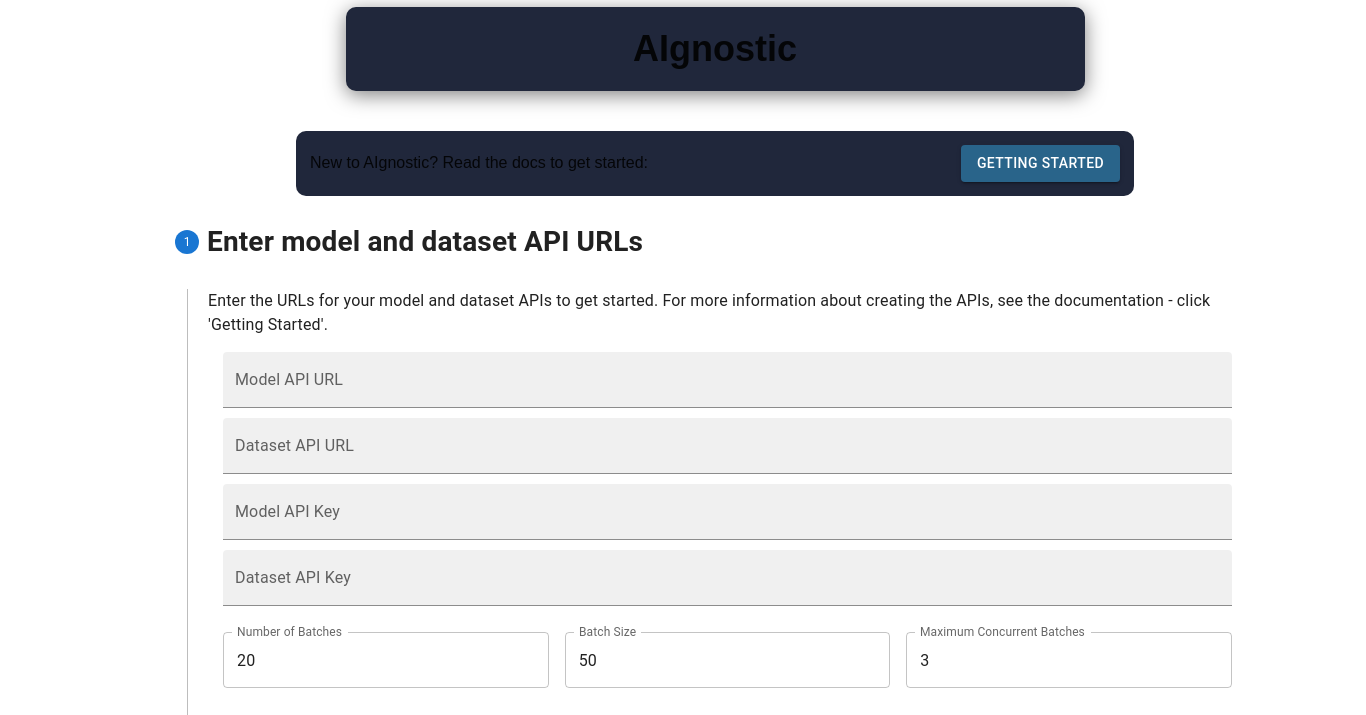
Test: UI Components › should enable "Next" button when valid URLs are entered
Type "http://valid-model-url.com" into the field labelled "Model API URL" at (728, 380), box [223,352,1232,408]
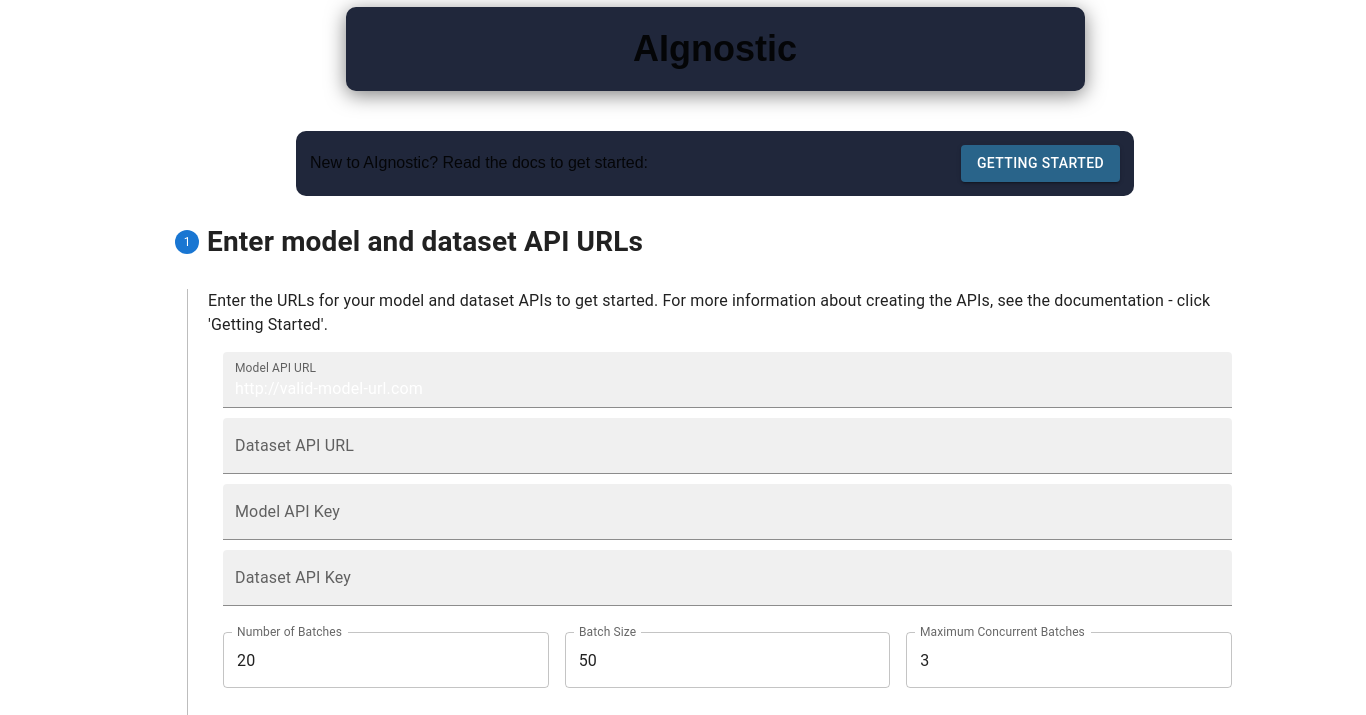
Type "http://valid-dataset-url.com" into the field labelled "Dataset API URL" at (728, 446), box [223,418,1232,474]
(page scrolled)
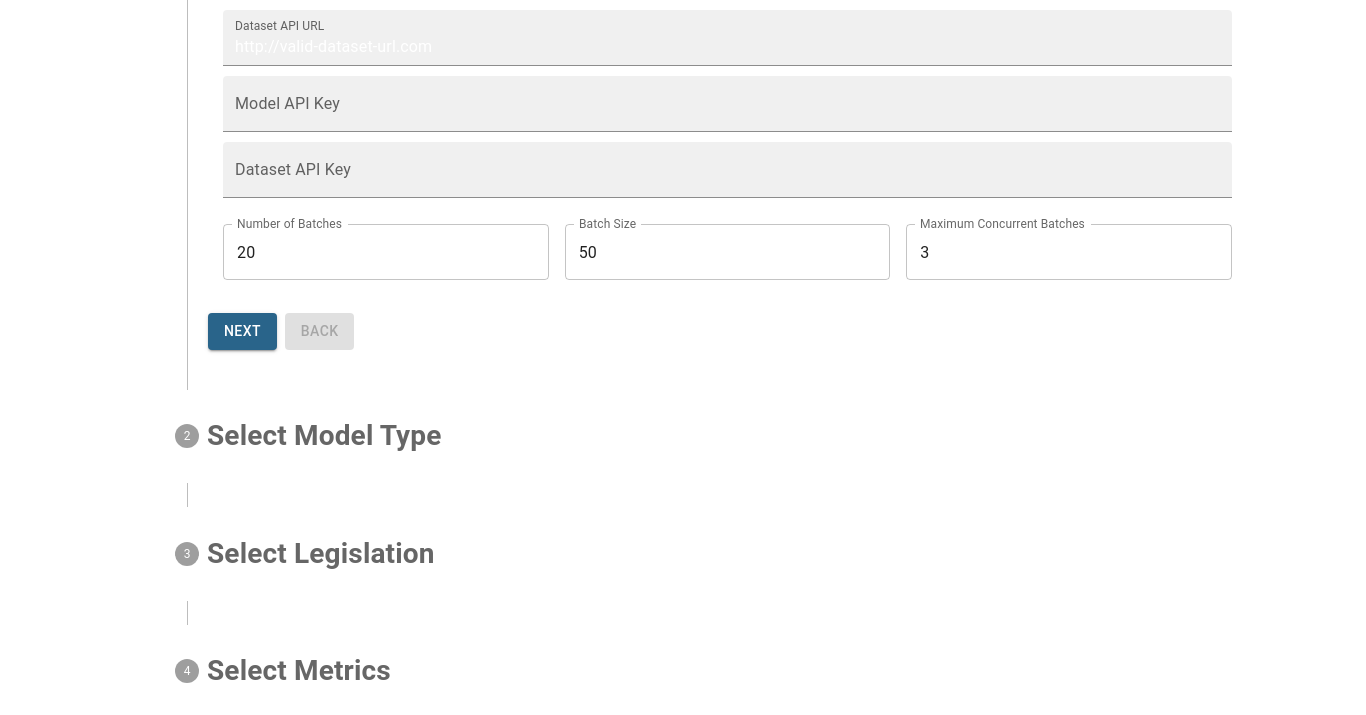
Check: the button "Next" is enabled, box [208,313,277,350]
